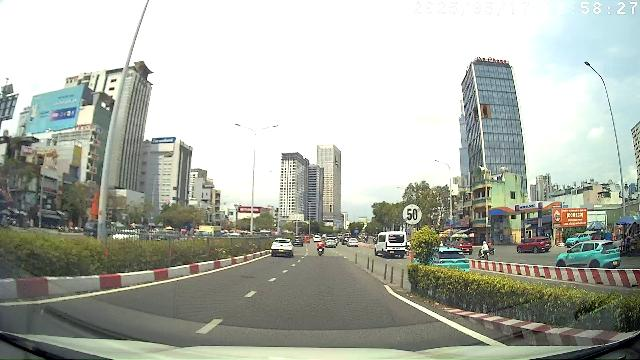134-het-han-che-toc-do-toi-da: (402, 203, 422, 225)
